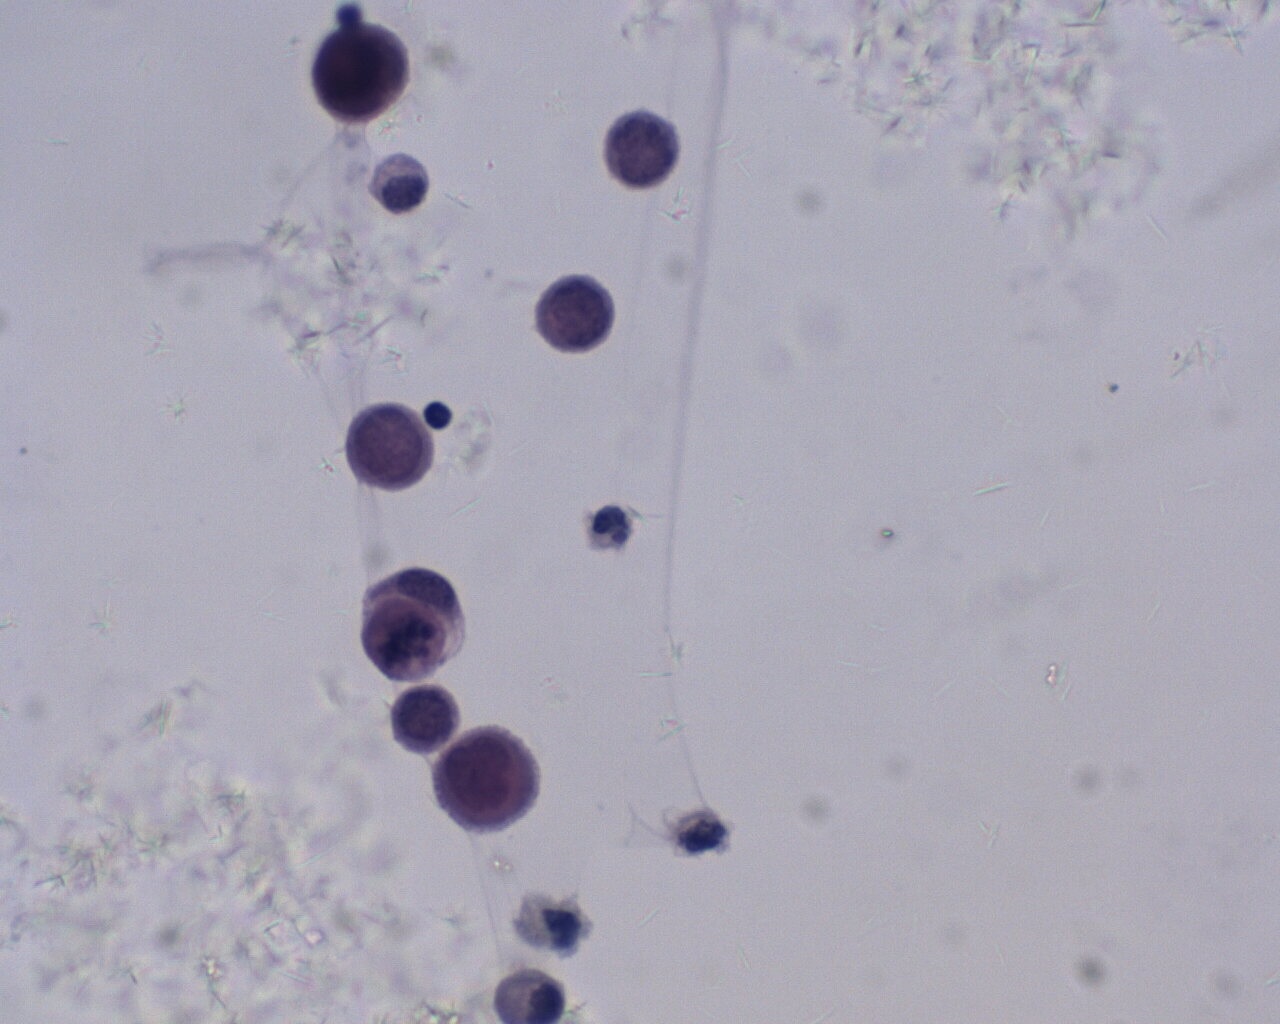ab: (435, 720, 537, 836), (312, 21, 413, 120), (347, 400, 433, 492), (365, 598, 449, 681), (533, 274, 616, 354), (601, 108, 680, 189), (387, 684, 462, 757)
lymph: (424, 394, 453, 433)
meso: (372, 150, 430, 217)
